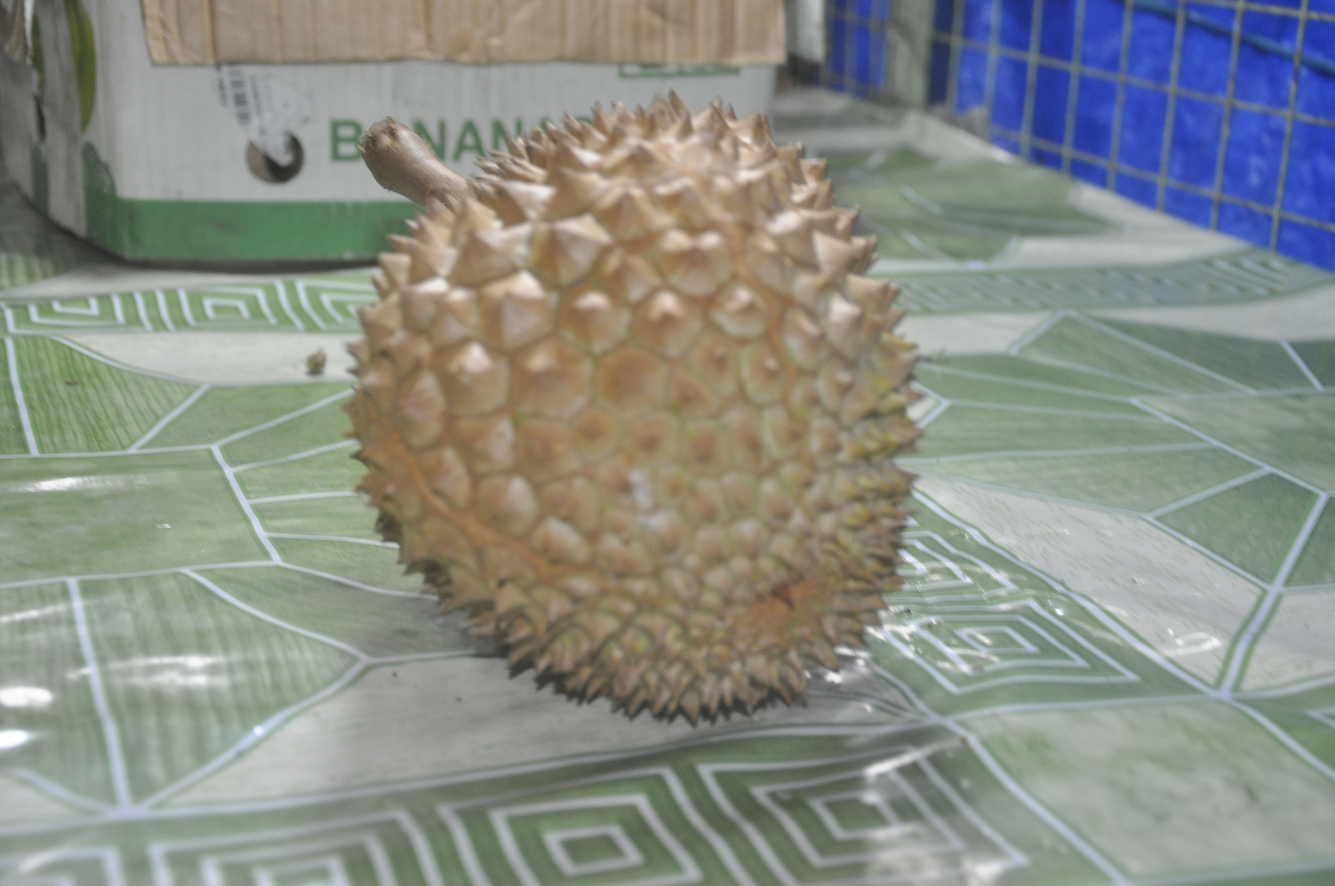mature: (349, 96, 918, 723)
